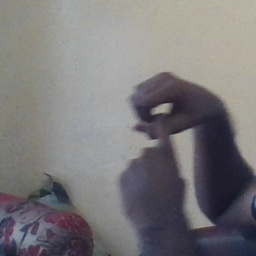Q: (110, 70, 212, 204)
